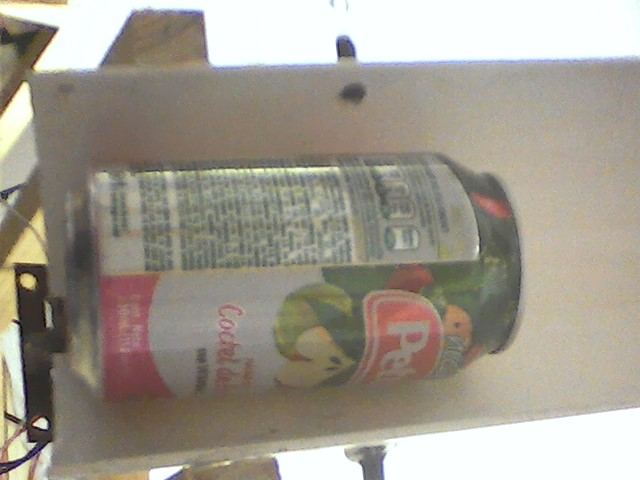lata: (64, 153, 531, 413)
